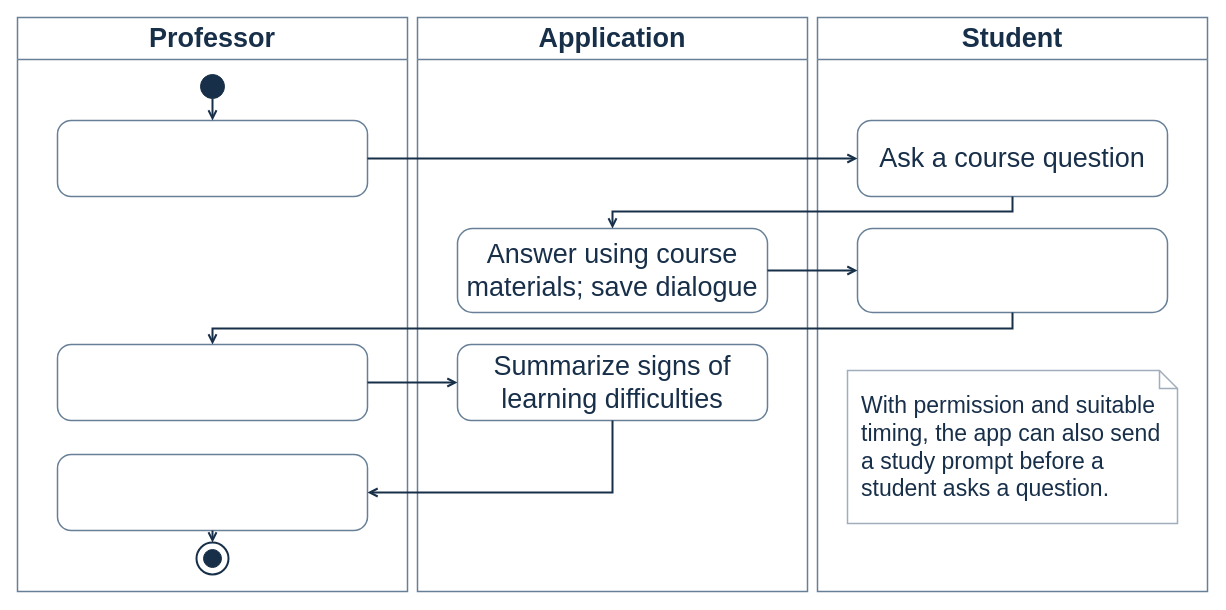
Some shapes in this 1226 by 610 pixel diagram are drawn without their labels. Each missing label, with the centre of its shape:
Later: request a course summary: [212,382]
Publish materials and teaching settings: [212,158]
Receive the answer: [1012,270]
Review results; decide what to change: [212,492]
